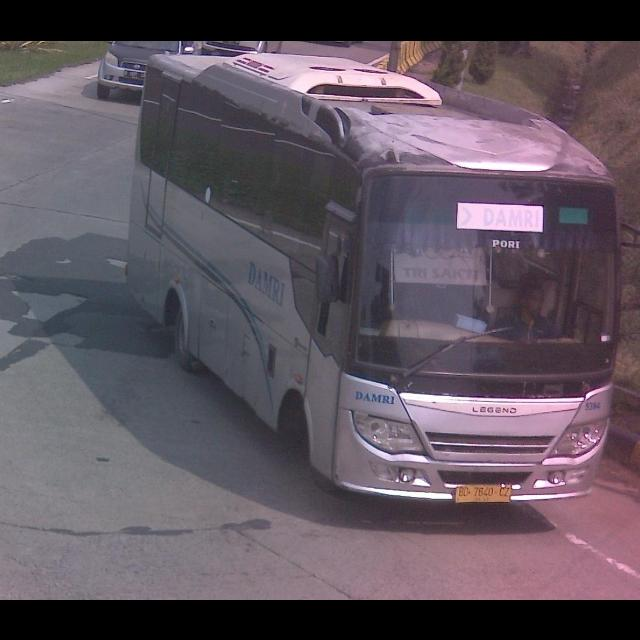plate: (455, 482, 517, 504)
